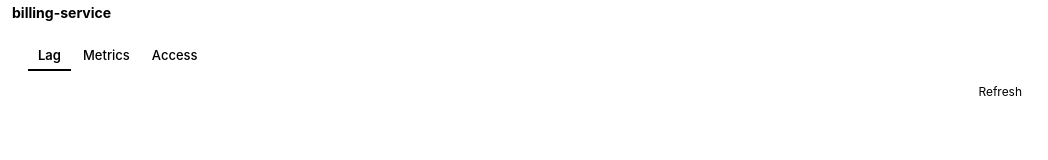
Test: ConsumerGroupDetailPanel › shows an empty-assignment message when the group has no partitions
The width and height of the screenshot is (1048, 160).
Click the button "Refresh": (1000, 92) [964,78,1036,105]
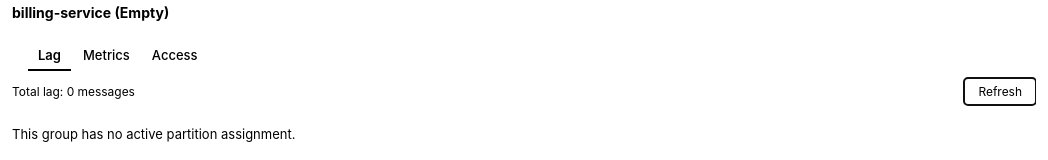
Check: the text "This group has no active partition assignment." is shown, box [12,126,295,142]
